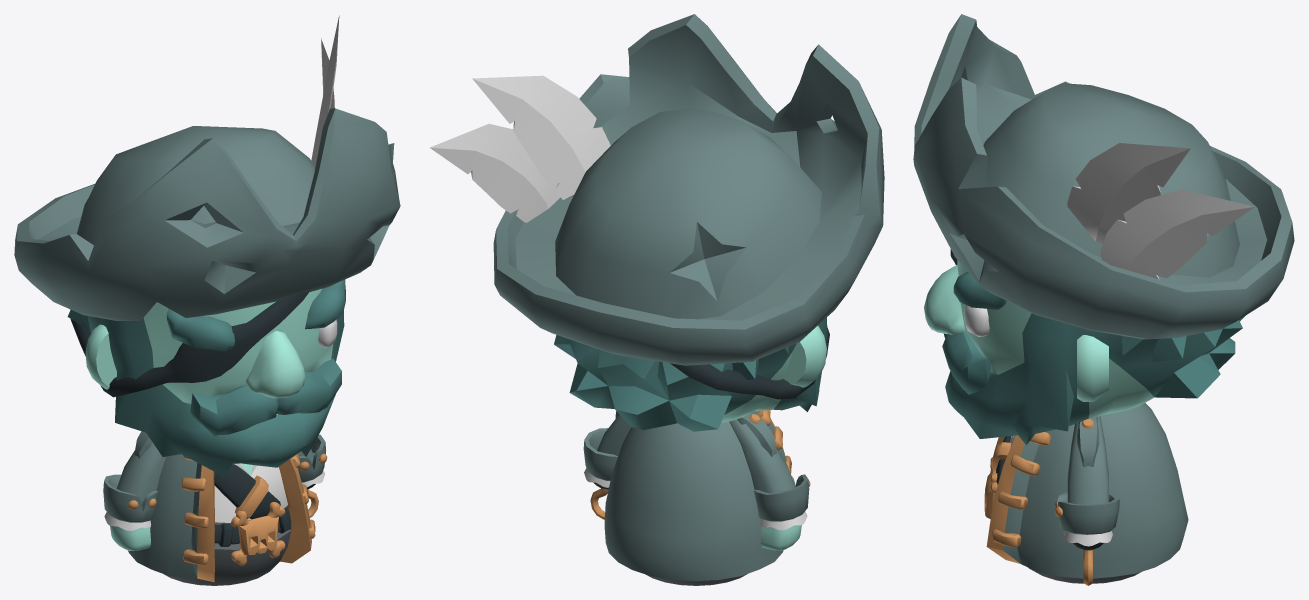
Rendered from character_pirateGhost.fbx.
3 views of the same model, side by side, from view 1: azimuth 30°, elevation 25°; view 2: azimuth 150°, elevation 25°; view 3: azimuth 270°, elevation 25° (orthographic). The views are drawn at different scales.
Parts seen in each view (by area): view 1: character_pirateGhost_hat, character_pirateGhost_head, character_pirateGhost_body, character_pirateGhost_armRight, character_pirateGhost_armLeft; view 2: character_pirateGhost_hat, character_pirateGhost_body, character_pirateGhost_head, character_pirateGhost_armRight, character_pirateGhost_armLeft; view 3: character_pirateGhost_hat, character_pirateGhost_head, character_pirateGhost_body, character_pirateGhost_armLeft.
Part boxes in pixels (x1=…): character_pirateGhost_hat: x1=14, y1=15, x2=400, y2=320; character_pirateGhost_head: x1=67, y1=279, x2=345, y2=476; character_pirateGhost_body: x1=128, y1=454, x2=315, y2=585; character_pirateGhost_armRight: x1=103, y1=431, x2=166, y2=550; character_pirateGhost_armLeft: x1=298, y1=434, x2=327, y2=517; character_pirateGhost_hat: x1=430, y1=14, x2=884, y2=365; character_pirateGhost_body: x1=604, y1=410, x2=791, y2=585; character_pirateGhost_head: x1=554, y1=317, x2=829, y2=431; character_pirateGhost_armRight: x1=729, y1=413, x2=810, y2=550; character_pirateGhost_armLeft: x1=583, y1=411, x2=631, y2=519; character_pirateGhost_hat: x1=913, y1=14, x2=1294, y2=339; character_pirateGhost_head: x1=924, y1=249, x2=1244, y2=444; character_pirateGhost_body: x1=984, y1=403, x2=1188, y2=583; character_pirateGhost_armLeft: x1=1055, y1=416, x2=1119, y2=585.
Bounding box in the file's own units: 1.62 × 2.14 × 1.44.
